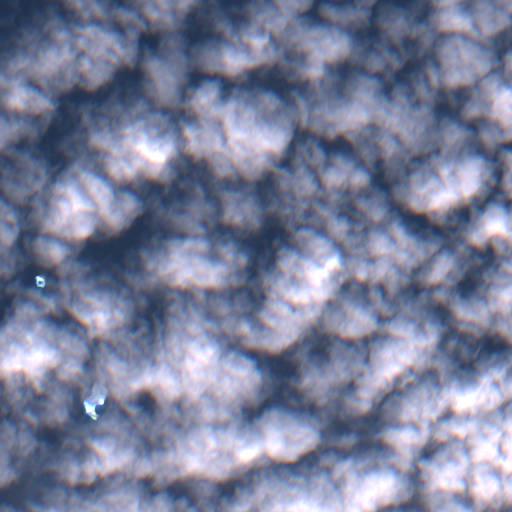Iceberg: (84, 382, 106, 419), (35, 275, 45, 287)
